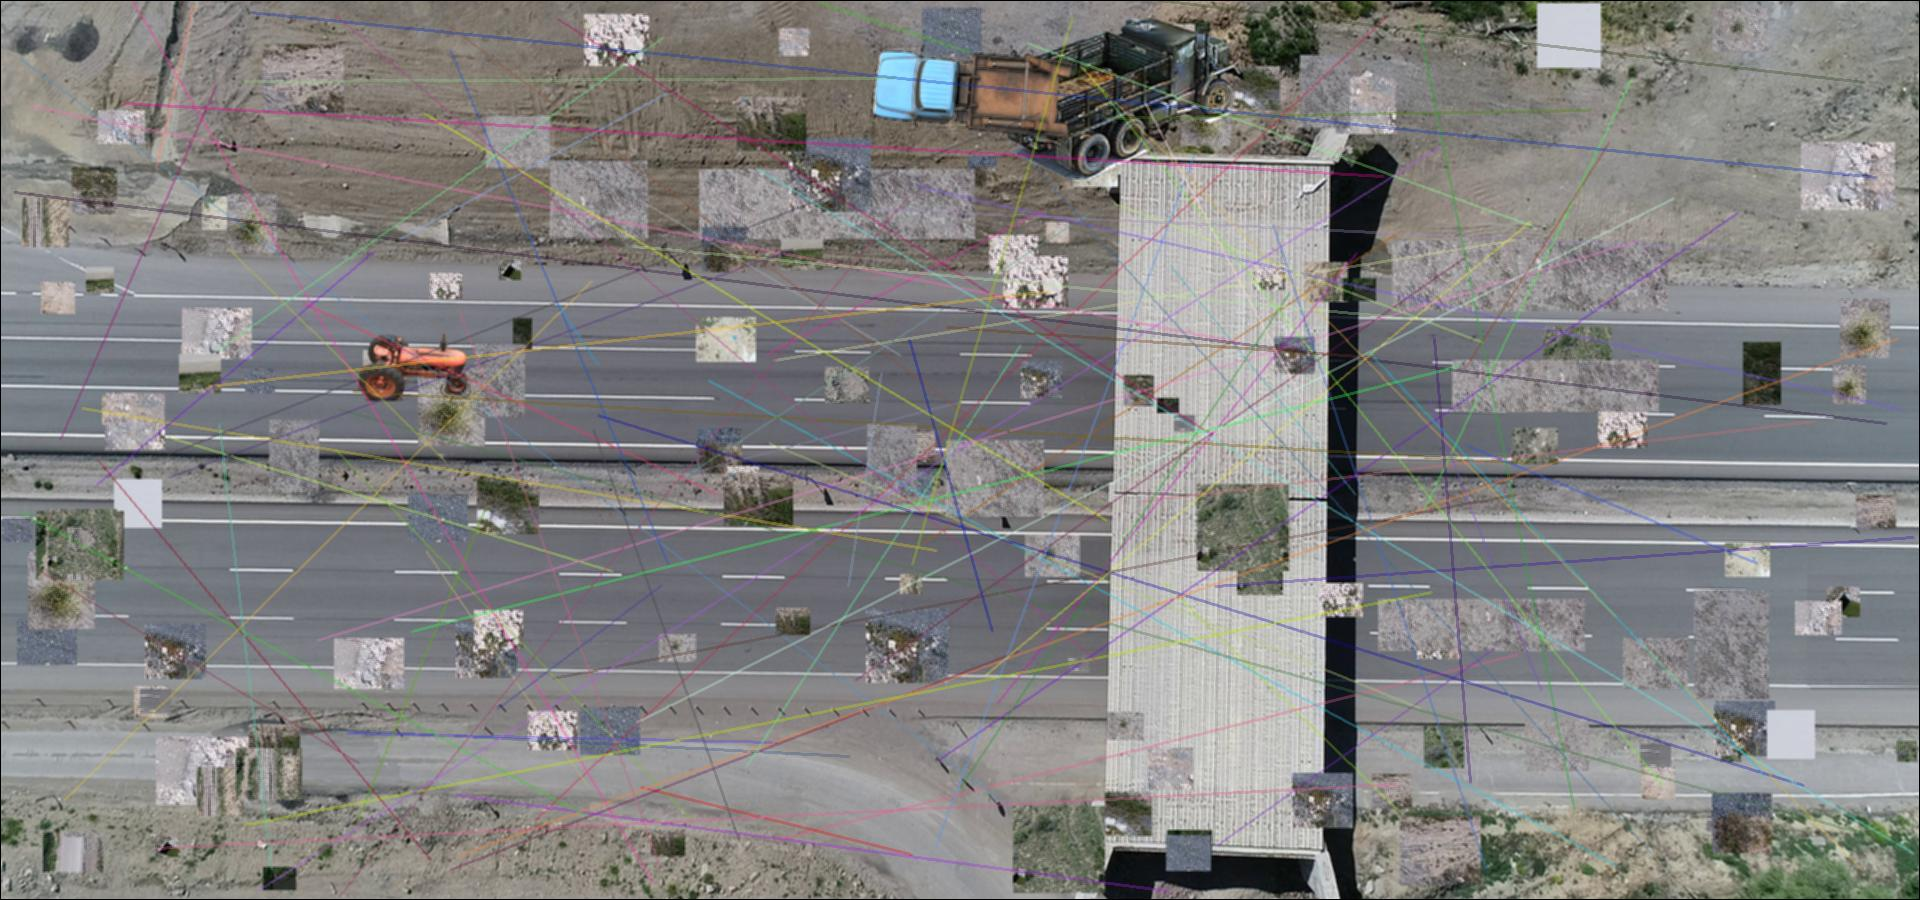arac: (980, 10, 1243, 179), (864, 45, 1075, 140), (359, 332, 475, 400)
